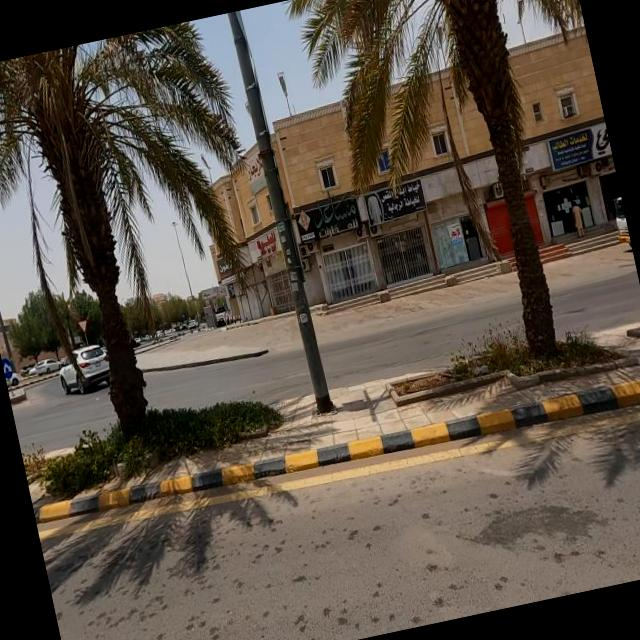debris: (444, 102, 555, 214), (392, 135, 490, 226)
